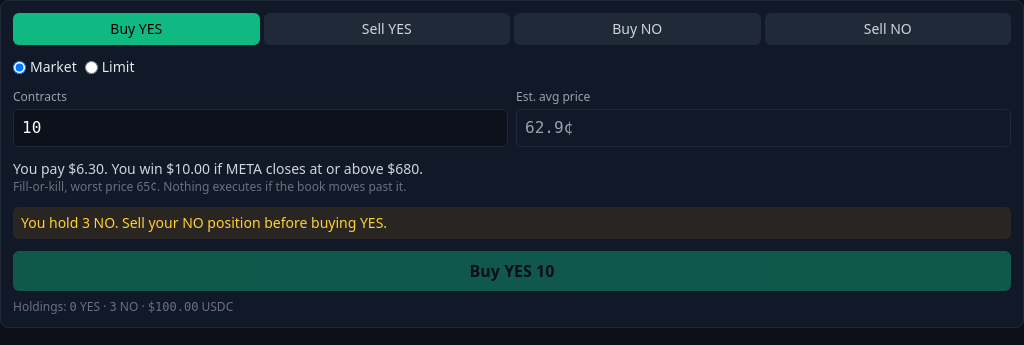
Test: position constraints › blocks Buy YES while holding NO and guides the user to exit first
expect the message reads "You hold 3 NO. Sell your NO position before buying YES.": met, box [21,213,387,232]
expect the button "Buy YES 10" is disabled: met, box [13,251,1011,291]
Click the tab "Sell NO".
click(888, 29)  # box [764,13,1011,45]
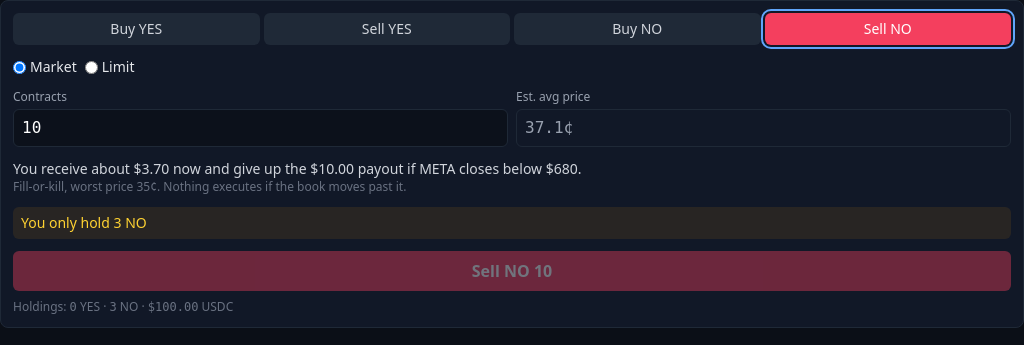
Replace the text in the number field labelled "Contracts" with "3" at (260,128), box [13,109,508,147]
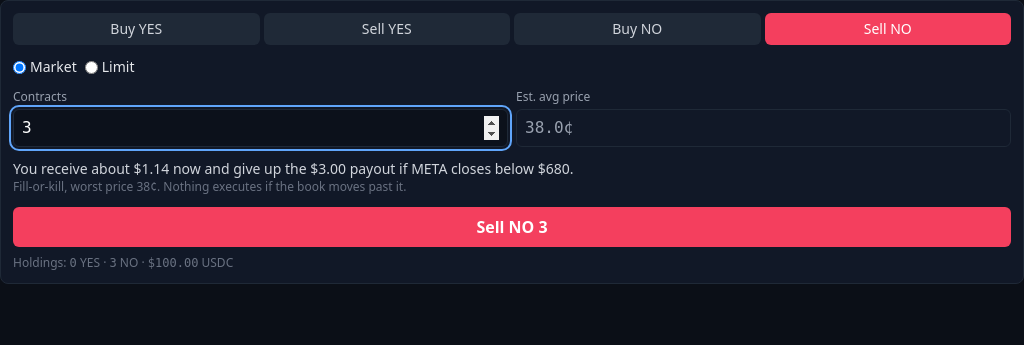
expect the button "Sell NO 3" is enabled: met, box [13,207,1011,247]
